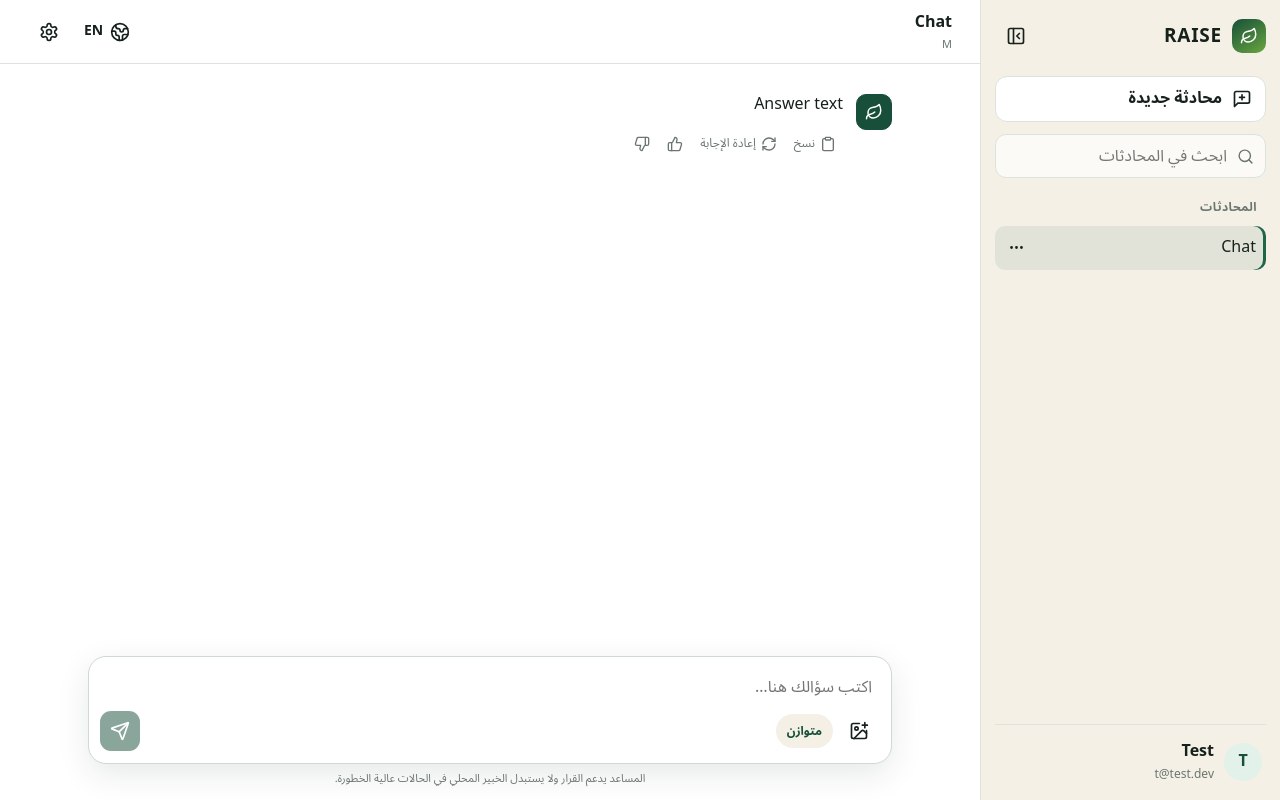
ChatWorkspace weekly usage › shows the fetched weekly spend and limit in settings
The image size is (1280, 800).
Expected: the text "Answer text" is shown, [754,87,843,121]
Click the button named "الإعدادات": (49,32) [28,10,70,52]
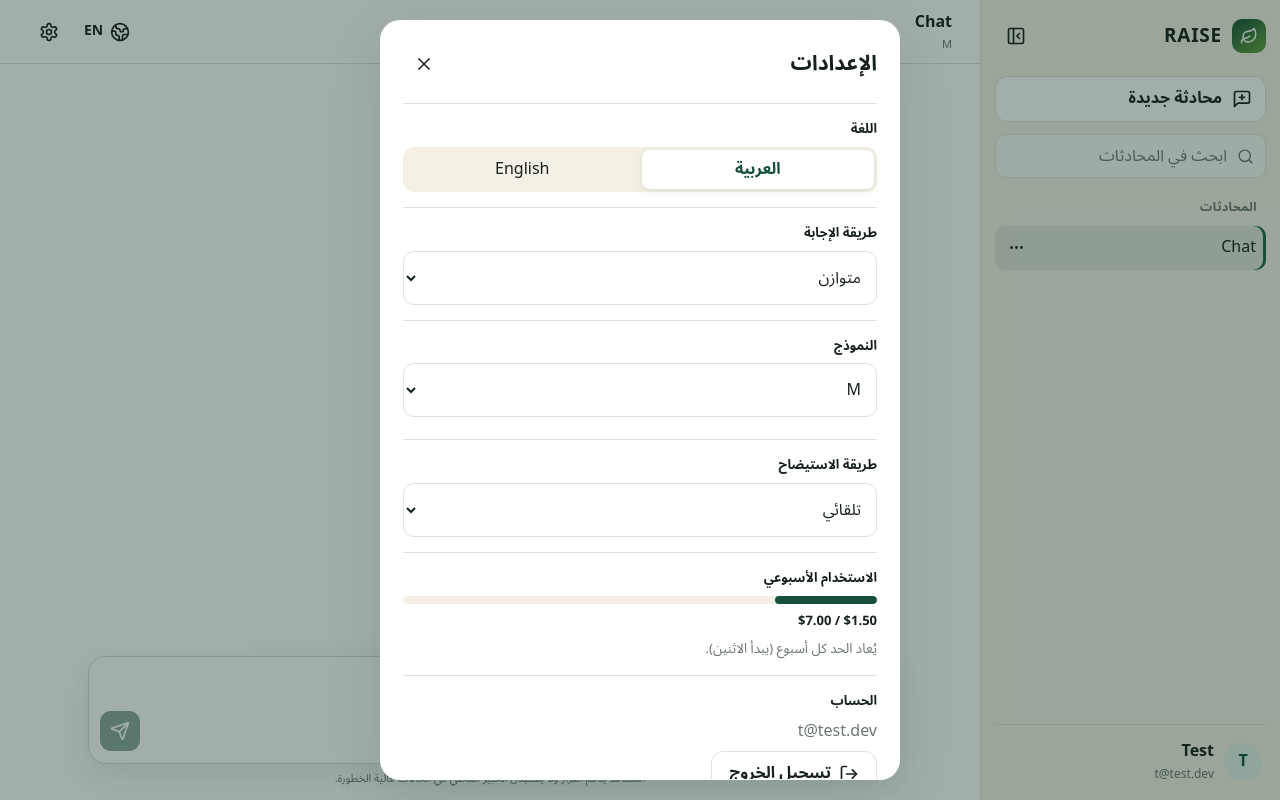
Now the text "$1.50 / $7.00" is shown, box [798,607,877,635]
